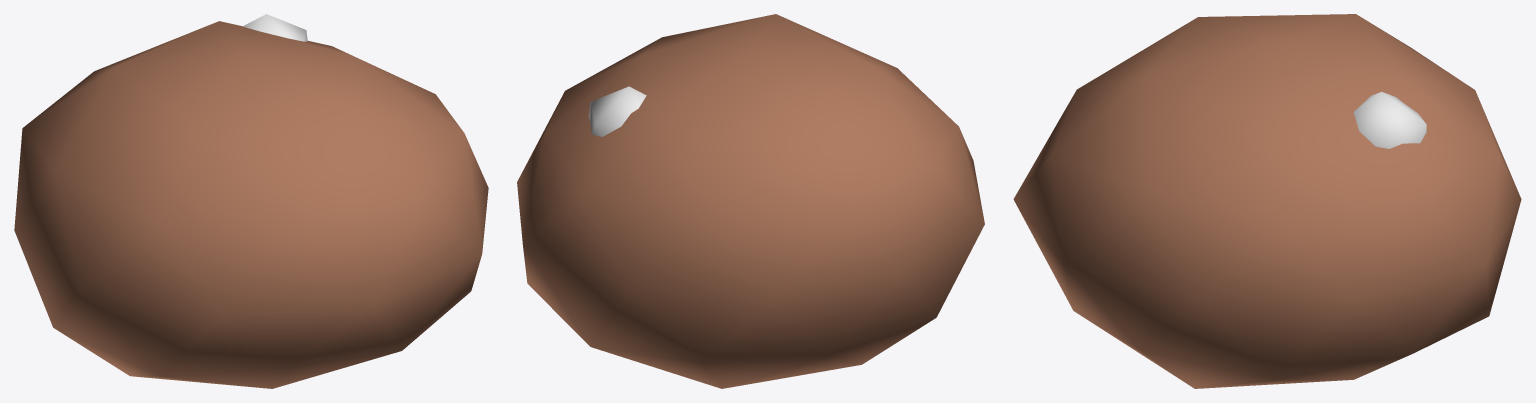
Rendered from apprentice_bait.glb.
The picture shows the model from 3 angles, left to right: view 1: azimuth 30°, elevation 25°; view 2: azimuth 150°, elevation 25°; view 3: azimuth 270°, elevation 25°; orthographic projection. The views are drawn at different scales.
Visible parts, largest first — view 1: apprentice_bait_v0; view 2: apprentice_bait_v0; view 3: apprentice_bait_v0.
Boxes of the visible parts, x1,y1,x2,y2 form: apprentice_bait_v0: (14, 14, 488, 388); apprentice_bait_v0: (517, 14, 984, 388); apprentice_bait_v0: (1013, 14, 1521, 388).
Size of the model in its own units: 0.2284 by 0.1701 by 0.2412.
